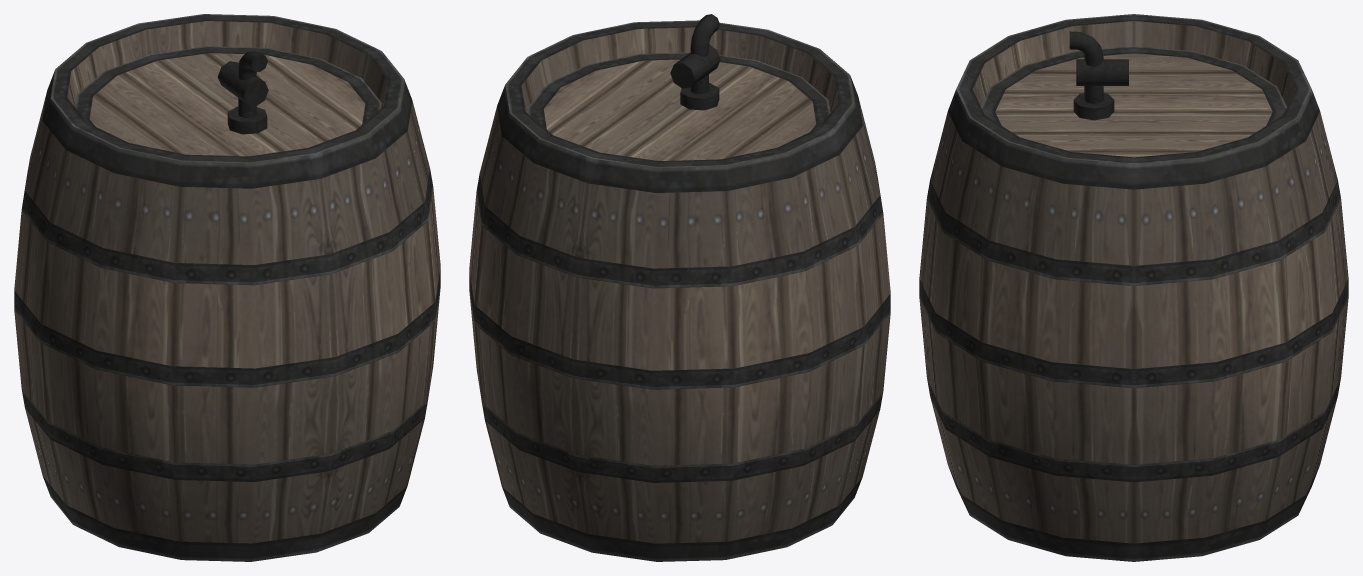
The model's file is Keg_A.fbx.
3 views of the same model, side by side, from view 1: azimuth 30°, elevation 25°; view 2: azimuth 150°, elevation 25°; view 3: azimuth 270°, elevation 25° (orthographic).
Parts seen in each view (by area): view 1: Keg_A; view 2: Keg_A; view 3: Keg_A.
Boxes of the visible parts, box(x1,y1,x2,y2) form: Keg_A: box(14, 14, 440, 561); Keg_A: box(469, 14, 890, 561); Keg_A: box(919, 14, 1348, 561).
Size of the model in its own units: 1.93 by 2.26 by 1.93.
